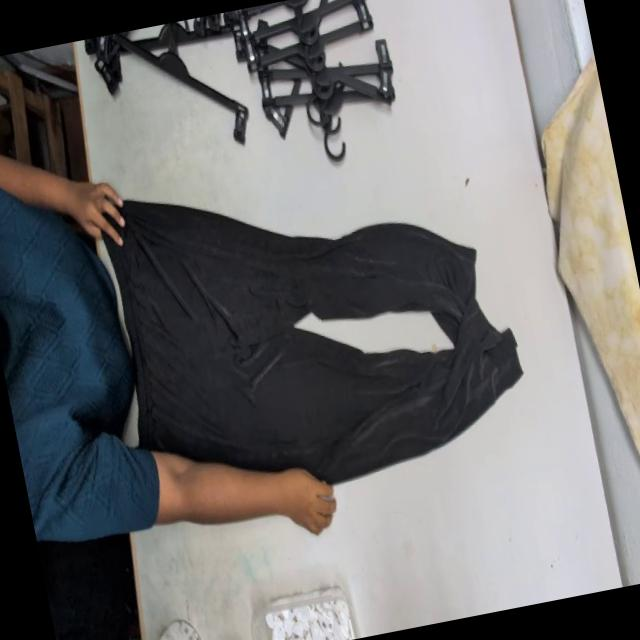new-garment: (106, 201, 522, 483)
